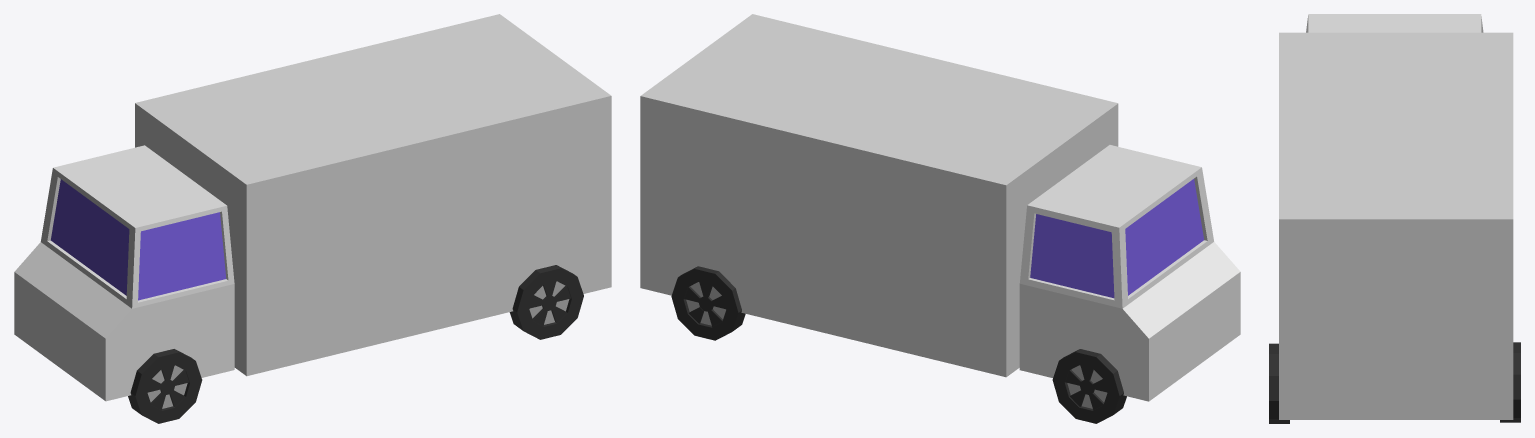
Rendered from camion.fbx.
3 views of the same model, side by side, from view 1: azimuth 30°, elevation 25°; view 2: azimuth 150°, elevation 25°; view 3: azimuth 270°, elevation 25° (orthographic). The views are drawn at different scales.
Parts seen in each view (by area): view 1: Cube.001, Cube.002, ROUE.001, ROUE; view 2: Cube.001, Cube.002, ROUE.003, ROUE.002; view 3: Cube.001, Cube.002, ROUE, ROUE.002.
Boxes of the visible parts, box(x1,y1,x2,y2) form: Cube.001: box(135, 14, 611, 376); Cube.002: box(14, 145, 234, 401); ROUE.001: box(128, 349, 202, 423); ROUE: box(509, 265, 583, 339); Cube.001: box(640, 14, 1118, 377); Cube.002: box(1019, 145, 1240, 401); ROUE.003: box(1052, 349, 1126, 423); ROUE.002: box(671, 266, 745, 340); Cube.001: box(1279, 32, 1513, 419); Cube.002: box(1306, 14, 1483, 32); ROUE: box(1269, 343, 1289, 423); ROUE.002: box(1500, 342, 1520, 422).
Size of the model in its own units: 968 by 414 by 406.
